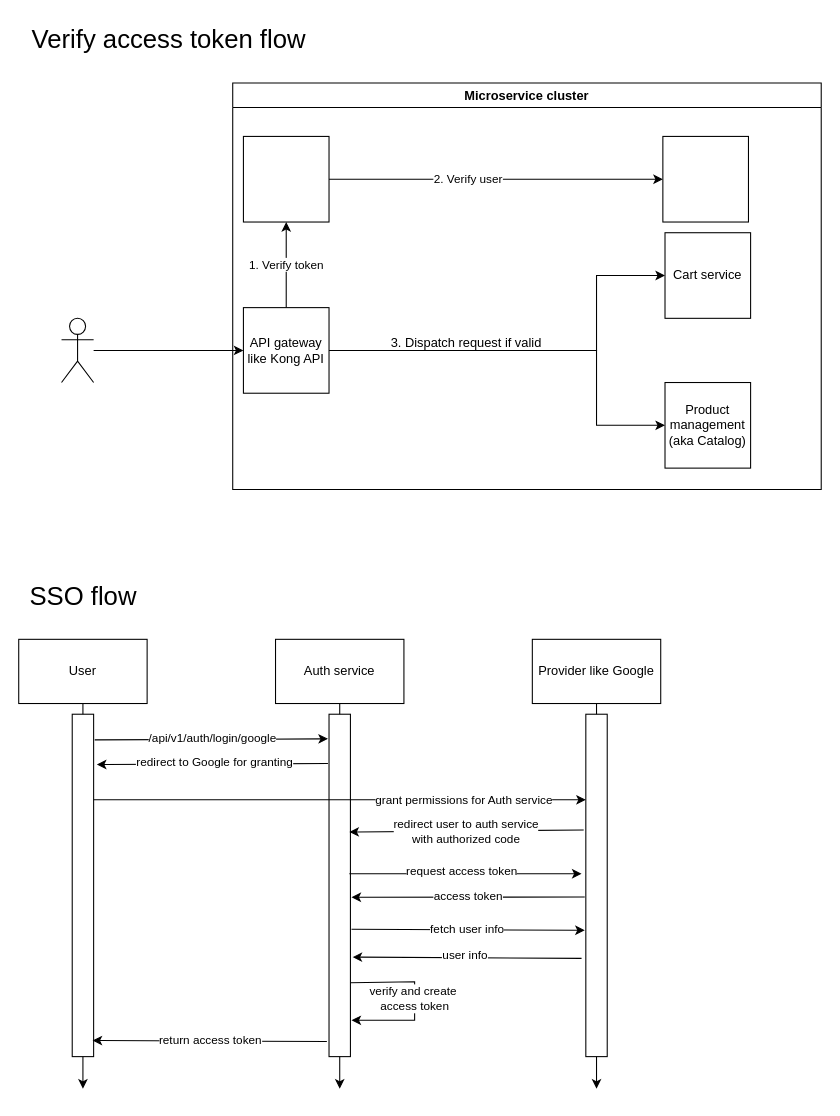
Some shapes in this 840 by 1116 pixel diagram are drawn without their labels. The shapes that lost their labels are listed below. From the top down, each one's centre as x and y in pixels, then its label:
point (285, 178): Identity and access management (aka IAM)
point (705, 178): User management
point (77, 350): Actor
